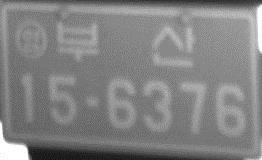-: (84, 93, 104, 108)
1: (18, 71, 42, 126)
3: (142, 78, 173, 133)
5: (47, 73, 79, 127)
6: (214, 83, 248, 140), (106, 75, 138, 130)
7: (177, 80, 209, 135)
부산_D: (54, 19, 199, 70)
영: (14, 18, 48, 60)
